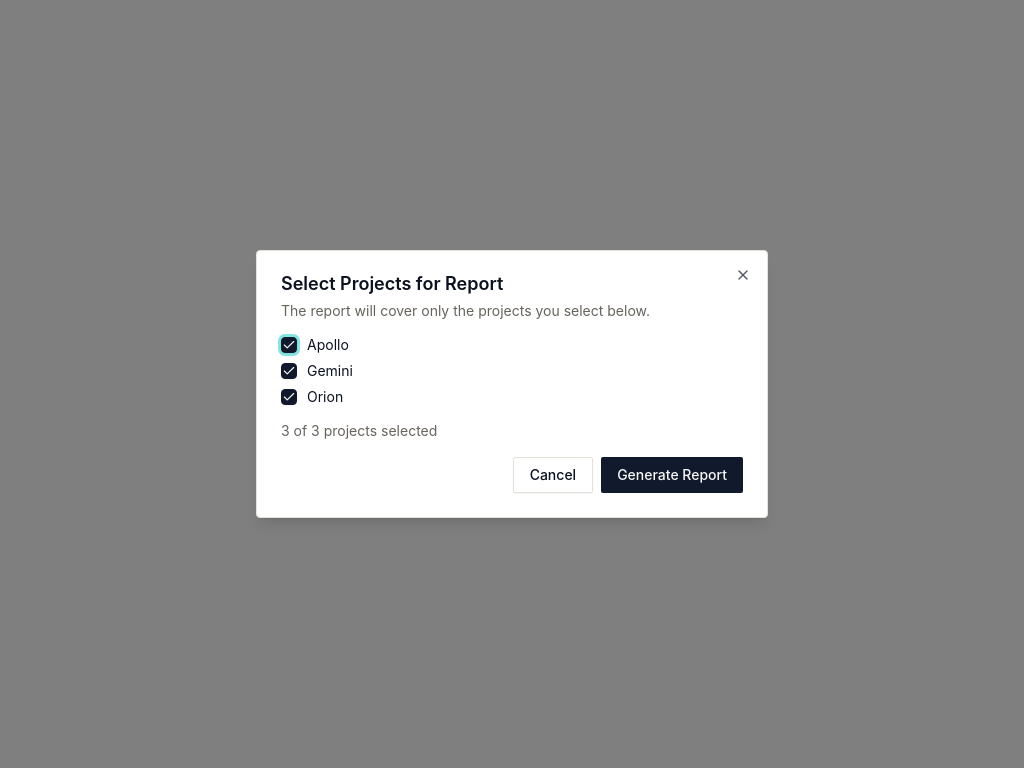
Test: ReportProjectPickerDialog › disables Generate Report when no projects are selected
Click the checkbox named "Apollo" next to "Apollo" at (289, 345), box [281,337,297,353]
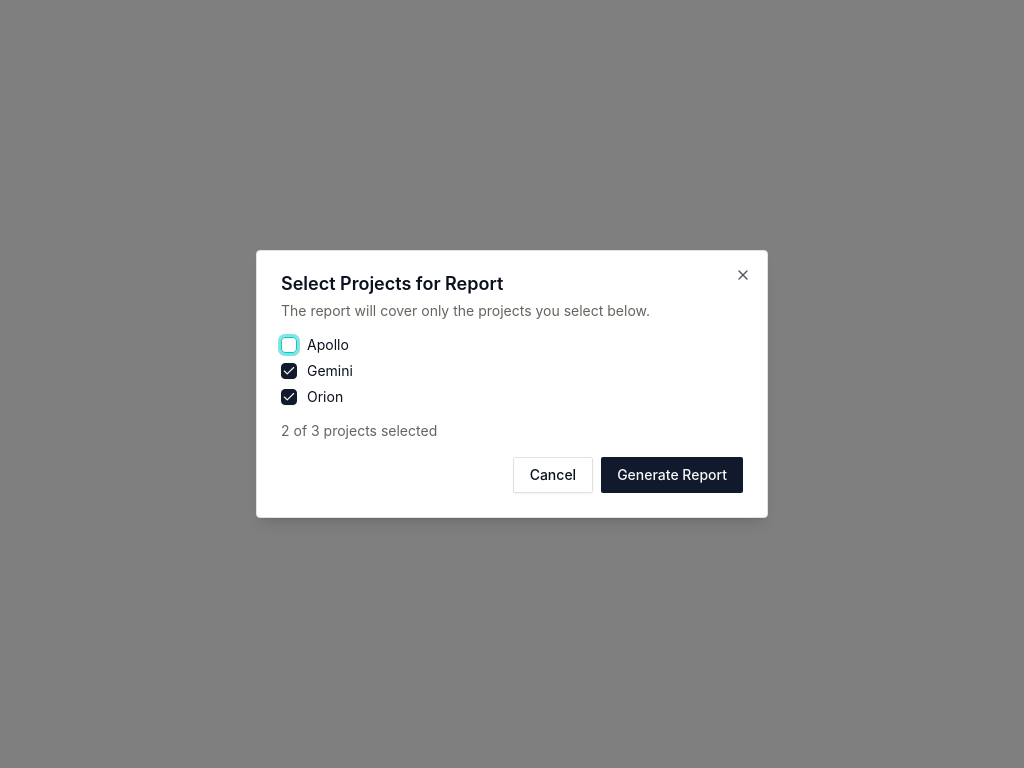
Click the checkbox named "Gemini" next to "Gemini" at (289, 371), box [281,363,297,379]
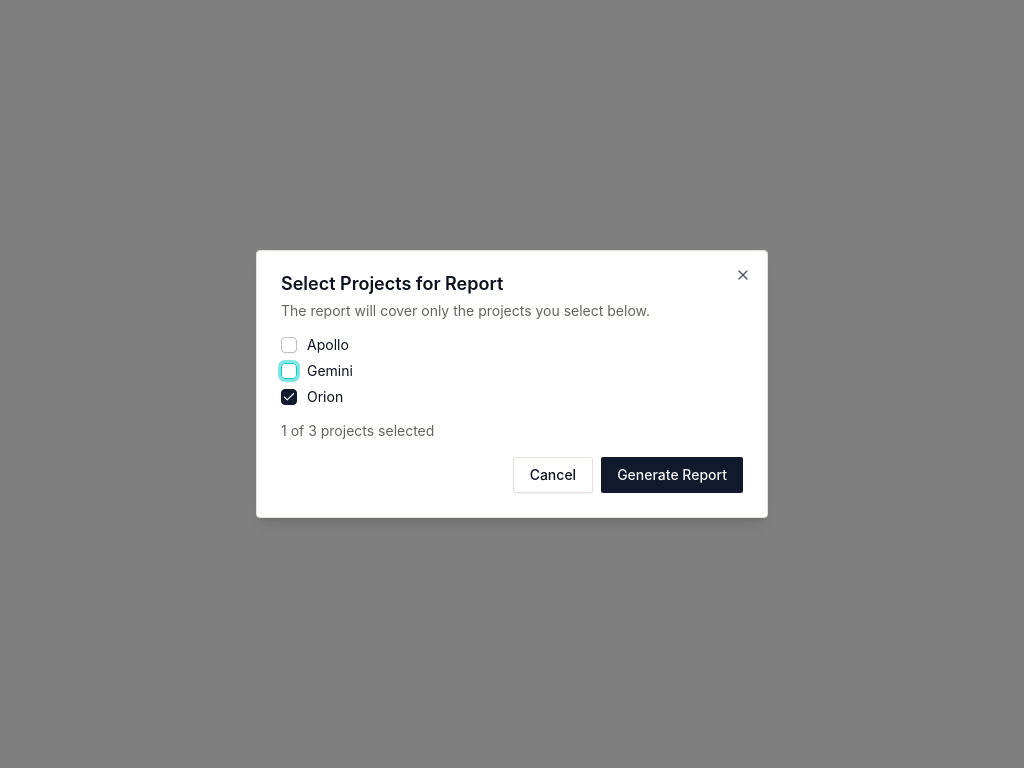
Click the checkbox named "Orion" next to "Orion" at (289, 397), box [281,389,297,405]
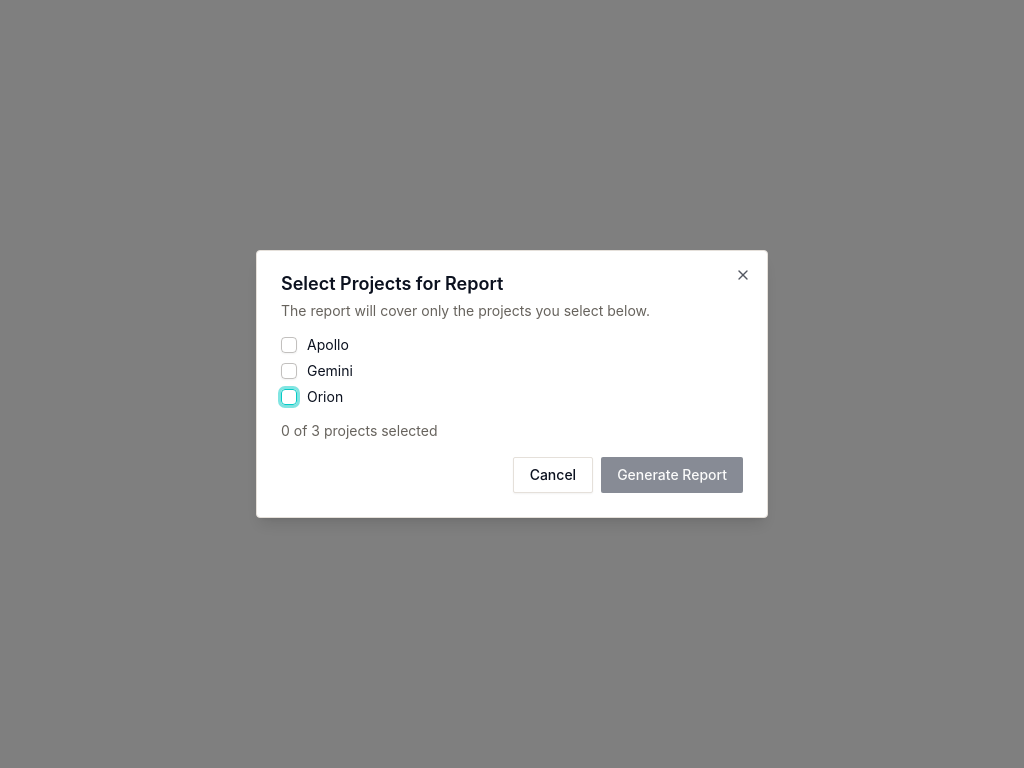
Now the text "0 of 3 projects selected" is shown, box [281,422,438,439]
Now the button "Generate Report" is disabled, box [601,457,743,493]
